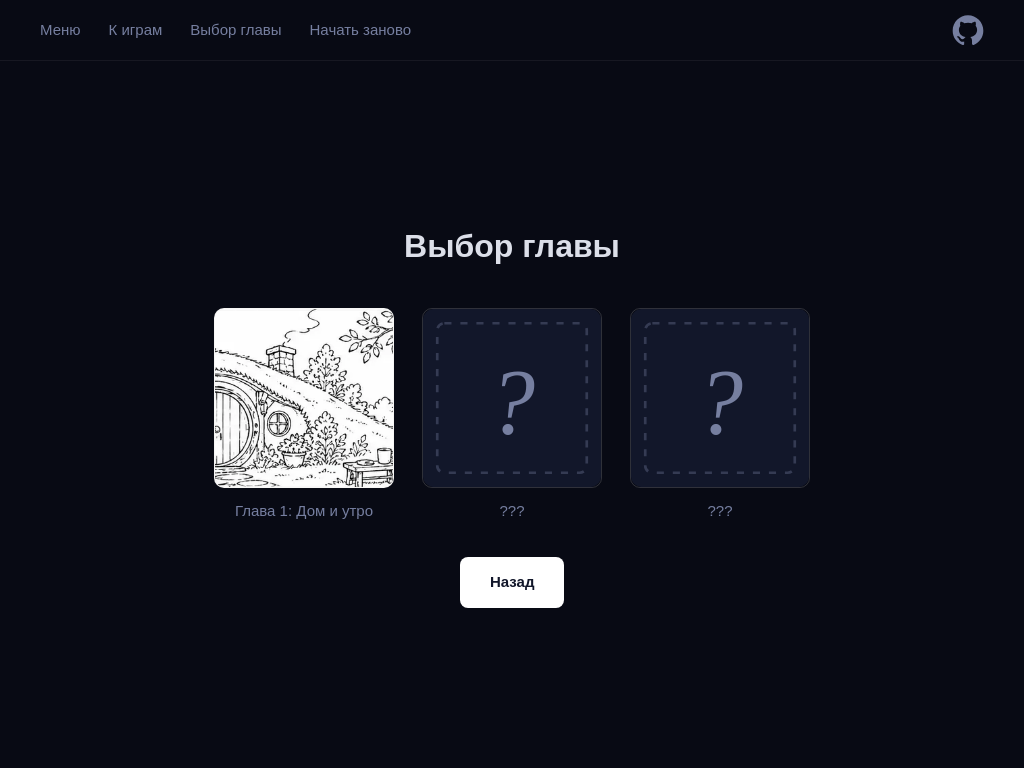
Test: routing: back button on the chapter screen › goes back through history when there is somewhere to return to
Step 1. Click the button "Назад" → click(512, 582), box [460,557,564,607]
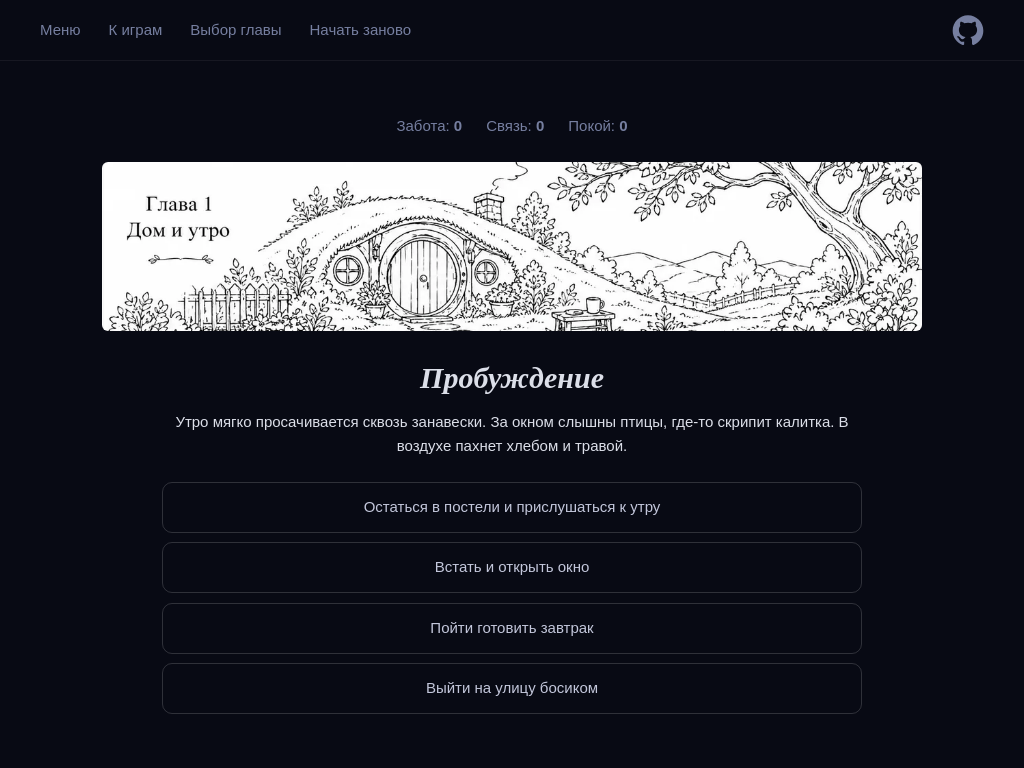
Check: the heading "Пробуждение" is shown, box [420,361,604,394]
